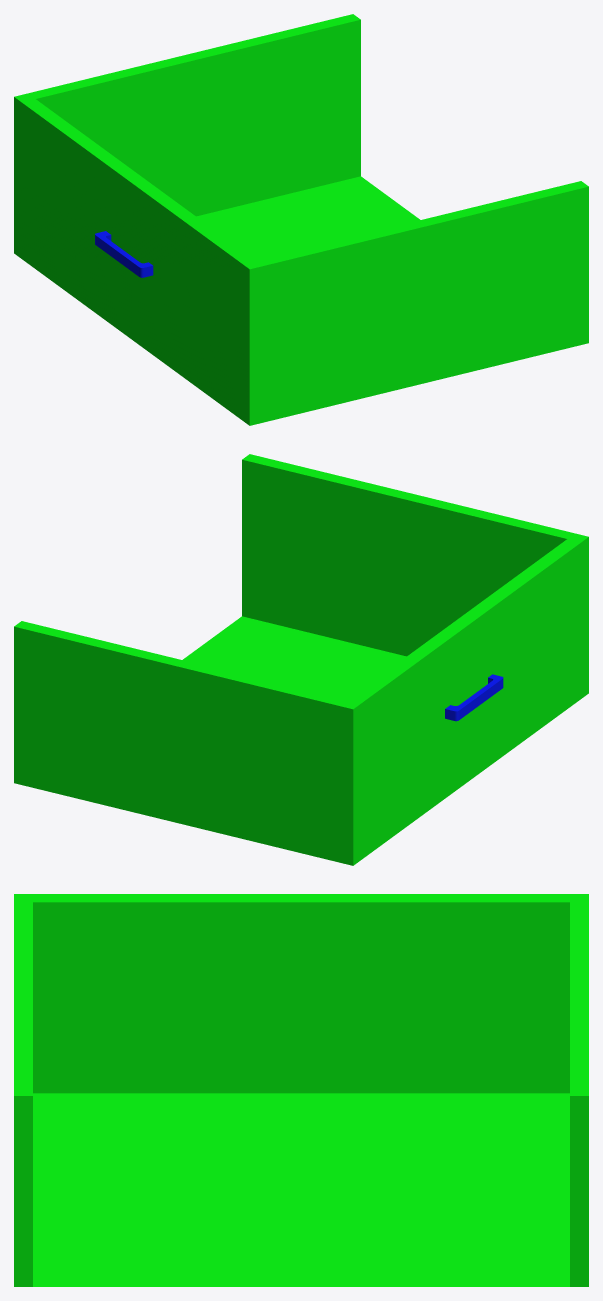
The model's file is Drawer_1_Door.fbx.
3 renders of one model, top to bottom at view 1: azimuth 30°, elevation 25°; view 2: azimuth 150°, elevation 25°; view 3: azimuth 270°, elevation 25°, orthographic. The views are drawn at different scales.
Visible parts, largest first — view 1: Drawer_1_Door; view 2: Drawer_1_Door; view 3: Drawer_1_Door.
Boxes of the visible parts, left/top/right/bottom form: Drawer_1_Door: left=14, top=14, right=588, bottom=425; Drawer_1_Door: left=14, top=454, right=588, bottom=865; Drawer_1_Door: left=14, top=894, right=588, bottom=1286.
Size of the model in its own units: 39.88 by 16.98 by 46.34.
